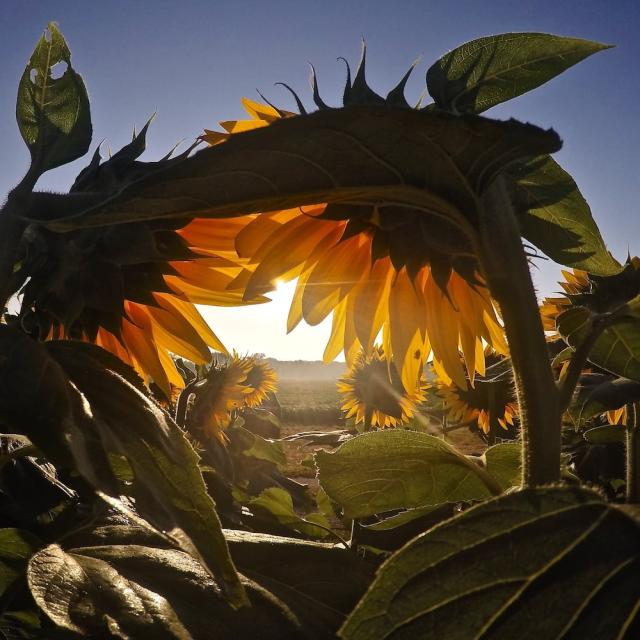sunflower: (200, 57, 522, 380), (15, 107, 286, 414), (421, 330, 539, 441), (528, 250, 640, 356), (334, 336, 428, 428), (176, 343, 251, 447), (208, 338, 285, 408)
